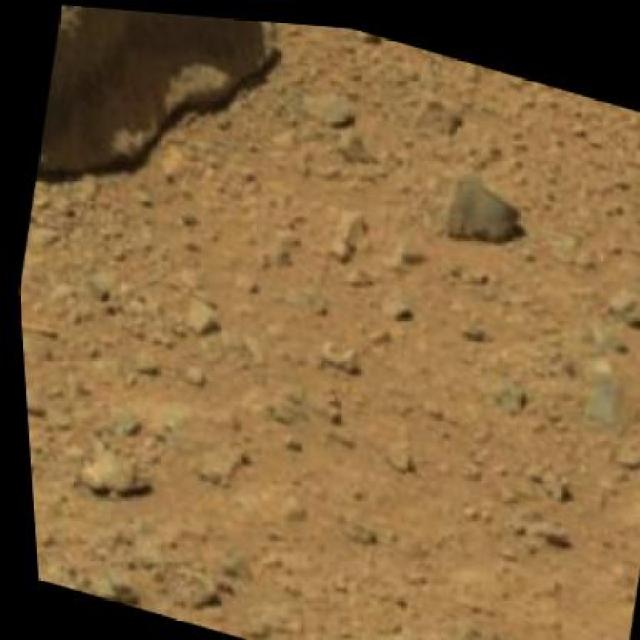rock: (23, 2, 294, 243), (444, 168, 530, 243)
